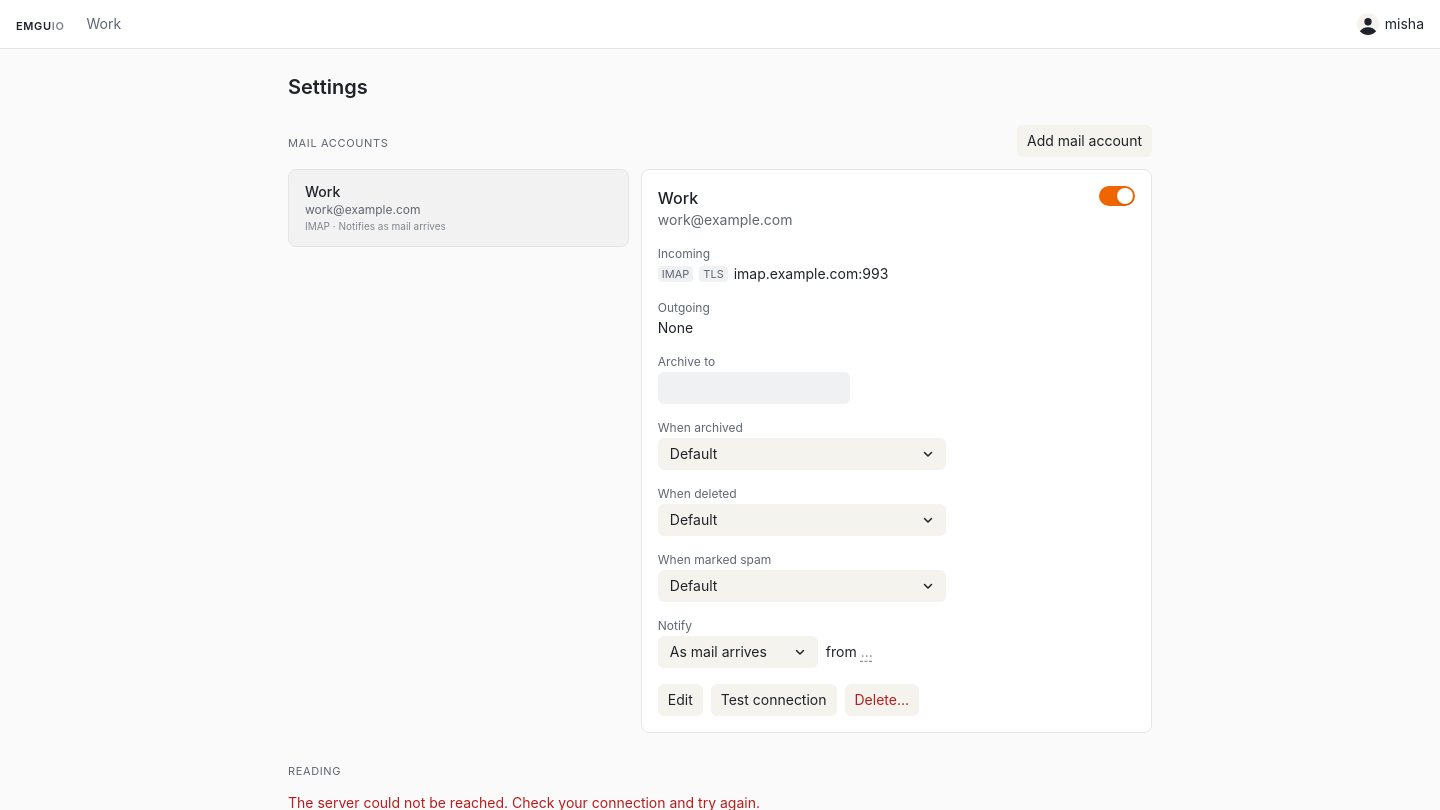
it: the application › goes to an account's mail from the header in Settings
Click the link "Work" at (104, 24), box [86,15,121,32]
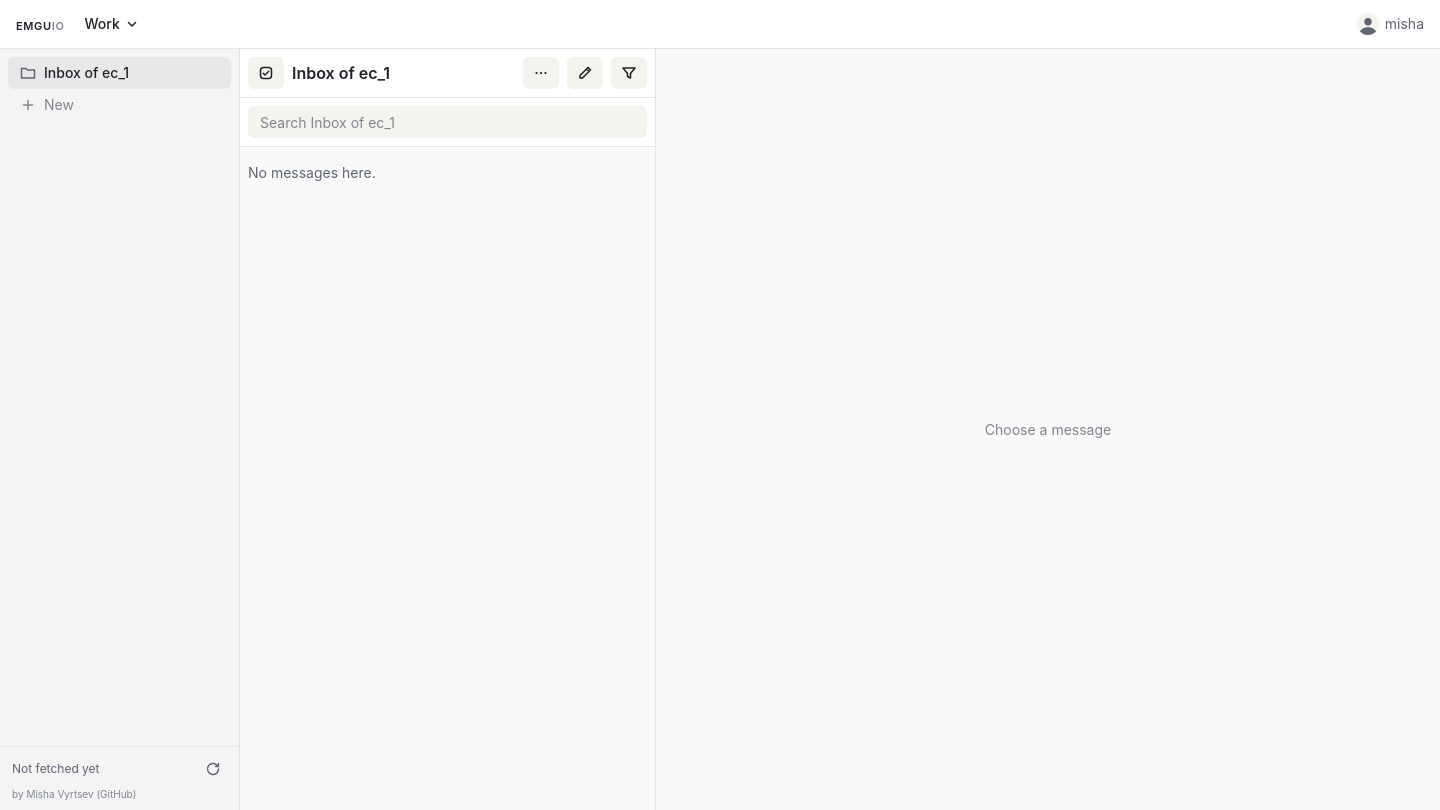
Check: the button "Work" is shown, box [76,8,148,40]
Check: the heading "Inbox of ec_1" is shown, box [292,63,390,83]
